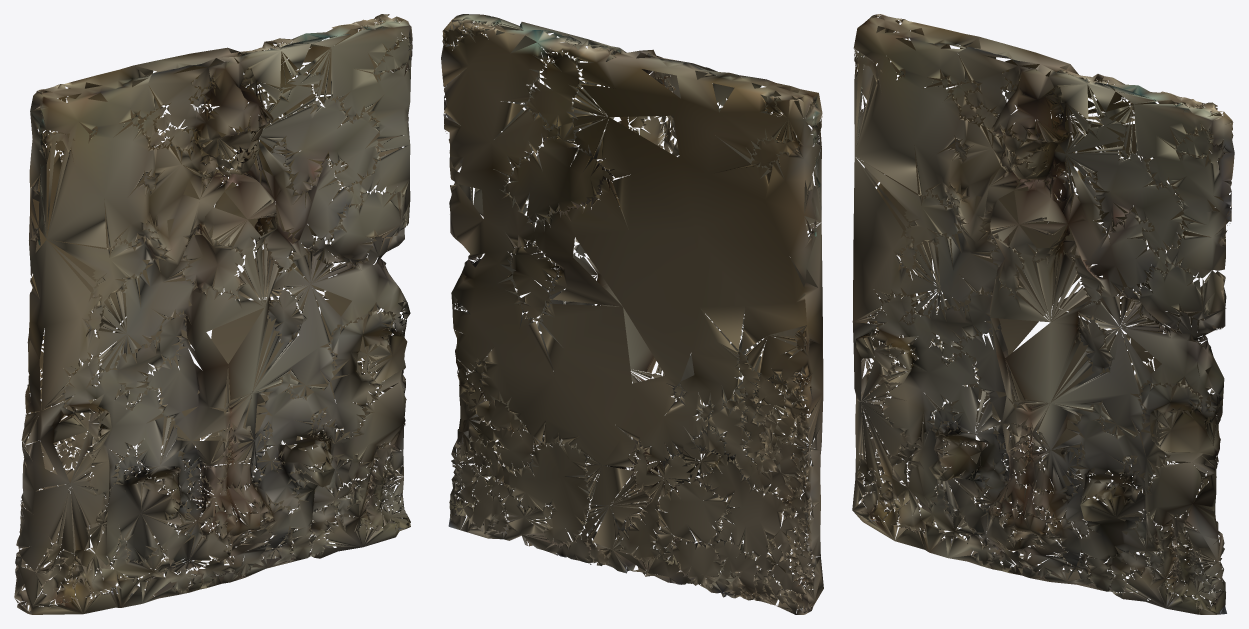
File: Practica_M2_T5_Gomez_Ibañez_Maria_Antonia.obj
The picture shows the model from 3 angles, left to right: view 1: azimuth 30°, elevation 25°; view 2: azimuth 150°, elevation 25°; view 3: azimuth 330°, elevation 25°; orthographic projection. The views are drawn at different scales.
Size of the model in its own units: 6.1 by 7.9 by 1.21.
